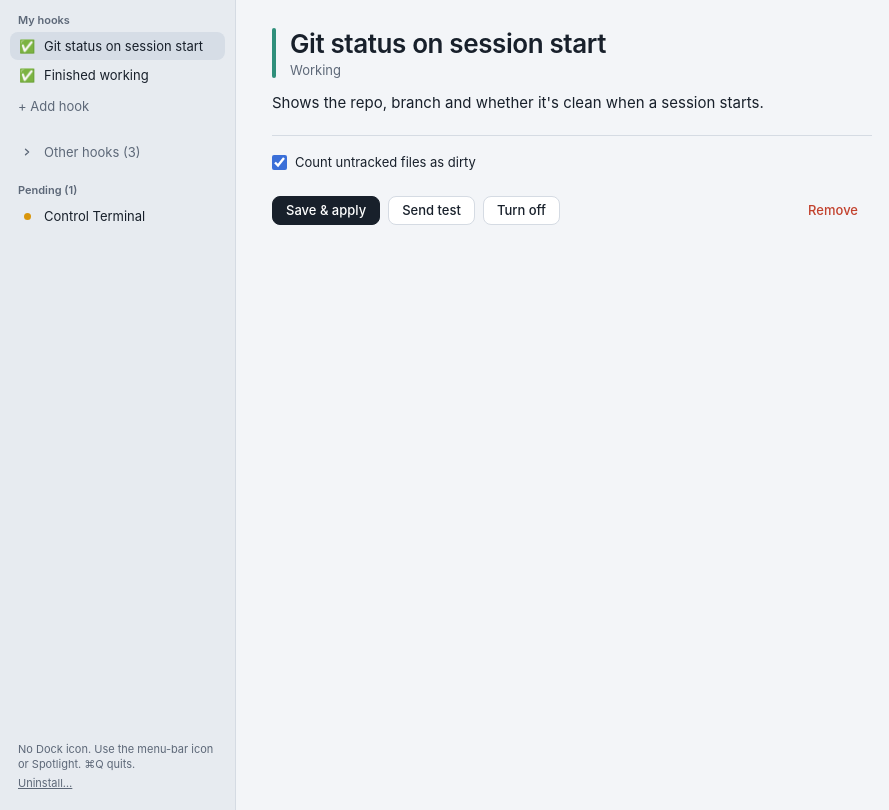
App › add_menu_lists_available_only
The width and height of the screenshot is (889, 810).
What coordinates should you click on to do the following:
click the button "+ Add hook"
I would click on:
 (118, 106)
Its box is [10,92,225,120].
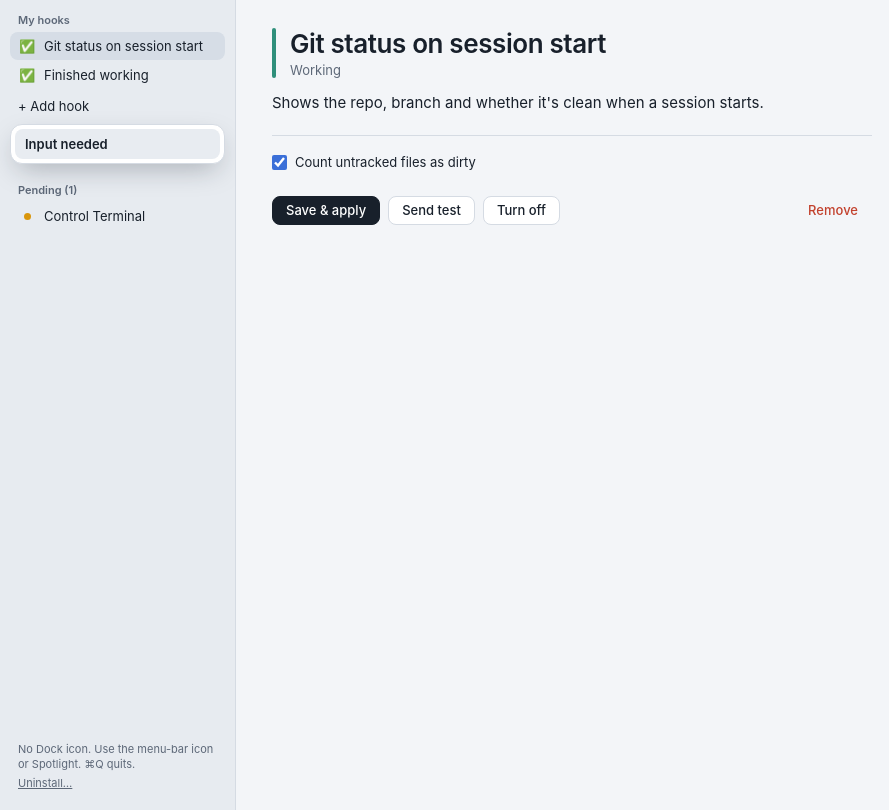
Expected: the number of menu items is 1, [15,129,220,159]
Expected: the menu item reads "Input needed", [15,129,220,159]
